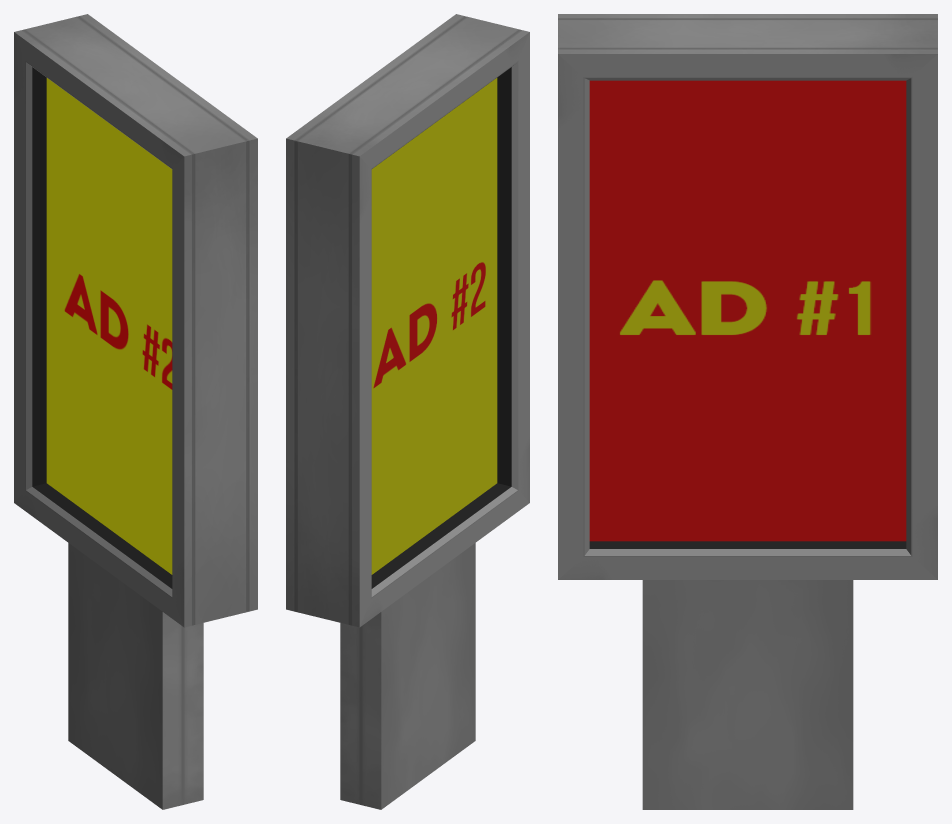
Rendered from street_advertising_banner.glb.
3 views of the same model, side by side, from view 1: azimuth 30°, elevation 25°; view 2: azimuth 150°, elevation 25°; view 3: azimuth 270°, elevation 25° (orthographic). The views are drawn at different scales.
Parts seen in each view (by area): view 1: Ad_Banner; view 2: Ad_Banner; view 3: Ad_Banner.
Part boxes in pixels (x1,y1,x2,y2): Ad_Banner: (14, 14, 257, 809); Ad_Banner: (286, 14, 529, 809); Ad_Banner: (558, 14, 937, 809).
Bounding box in the file's own units: 0.2571 × 2.29 × 1.03.
3 materials, 2 textured.
